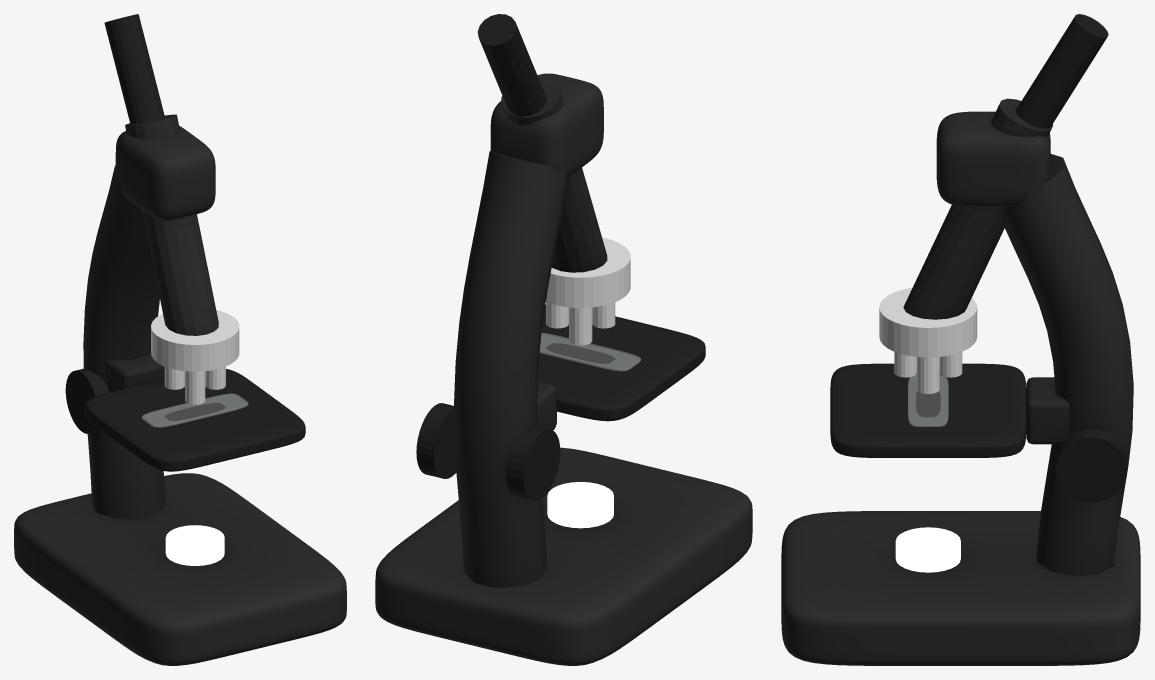
File: black.glb
3 renders of one model, left to right at view 1: azimuth 30°, elevation 25°; view 2: azimuth 150°, elevation 25°; view 3: azimuth 270°, elevation 25°, orthographic. The views are drawn at different scales.
Visible parts, largest first — view 1: paint_primary_scope, scope_black, chrome, led_white, slide_glass; view 2: paint_primary_scope, scope_black, chrome, led_white, slide_glass; view 3: paint_primary_scope, scope_black, chrome, led_white, slide_glass.
Part boxes in pixels (x1=…): paint_primary_scope: x1=14, y1=114, x2=346, y2=665; scope_black: x1=65, y1=14, x2=305, y2=471; chrome: x1=151, y1=310, x2=239, y2=404; led_white: x1=165, y1=525, x2=224, y2=565; slide_glass: x1=142, y1=393, x2=247, y2=427; paint_primary_scope: x1=375, y1=73, x2=752, y2=665; scope_black: x1=416, y1=14, x2=705, y2=500; chrome: x1=545, y1=237, x2=630, y2=345; led_white: x1=547, y1=482, x2=613, y2=528; slide_glass: x1=540, y1=333, x2=640, y2=370; paint_primary_scope: x1=781, y1=98, x2=1140, y2=665; scope_black: x1=830, y1=14, x2=1127, y2=502; chrome: x1=879, y1=287, x2=977, y2=394; led_white: x1=895, y1=527, x2=960, y2=572; slide_glass: x1=908, y1=374, x2=948, y2=426.
Size of the model in its own units: 0.16 by 0.406 by 0.22.
Materials: 5 (1 with a texture image).
